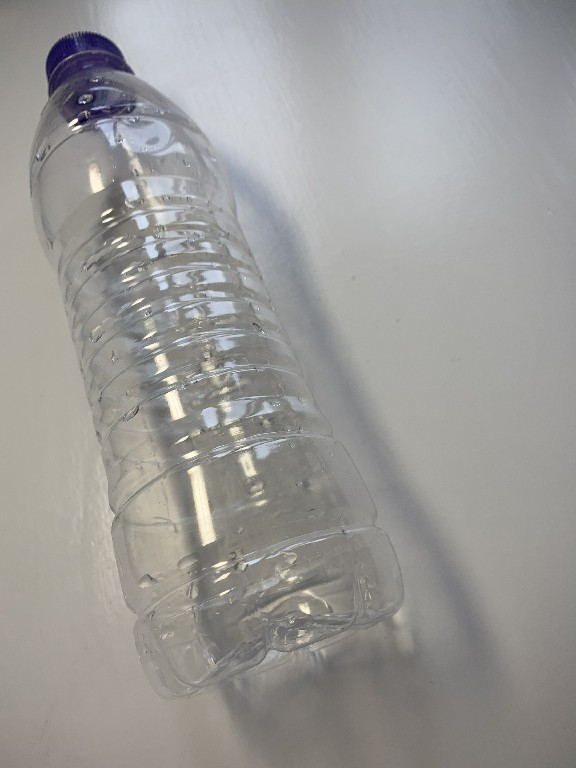bottle: (20, 28, 413, 713)
